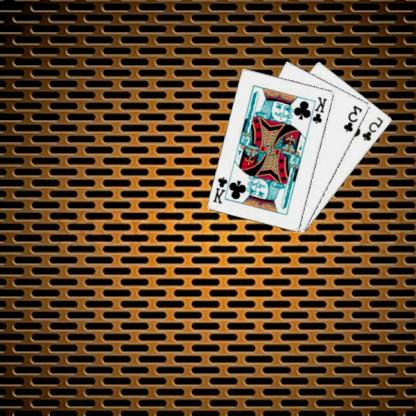3C: (343, 103, 366, 133)
5C: (362, 115, 386, 142)
KC: (308, 94, 331, 126), (212, 172, 235, 204)
